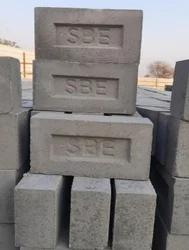brick: (28, 116, 155, 177), (34, 6, 144, 60), (33, 61, 141, 114), (13, 189, 56, 250), (112, 193, 155, 250), (69, 191, 112, 248)
